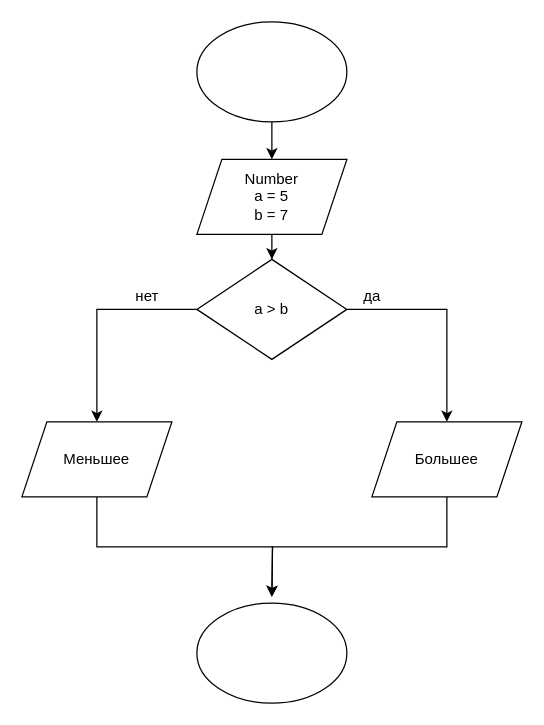
Some shapes in this 544 by 725 pixel diagram are drawn without their labels. The shapes that lost their labels are listed below. From the top down, each one's centre as x and y in pixels, then its label:
At point 271,71: "START".
At point 271,652: "End".
